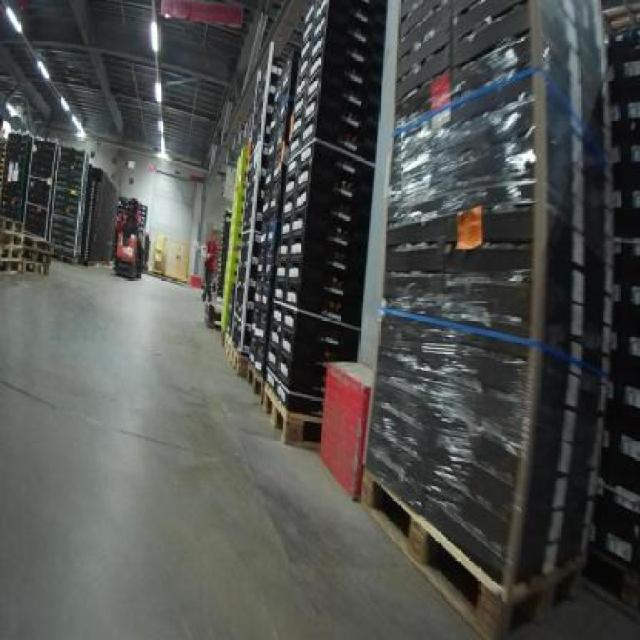pallet: (355, 465, 588, 637), (260, 383, 326, 452)
